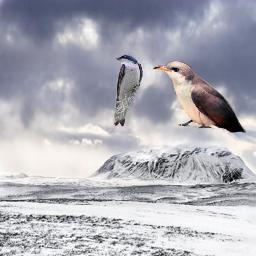Cuckoo: (153, 61, 246, 133)
Swallow: (112, 54, 143, 127)
